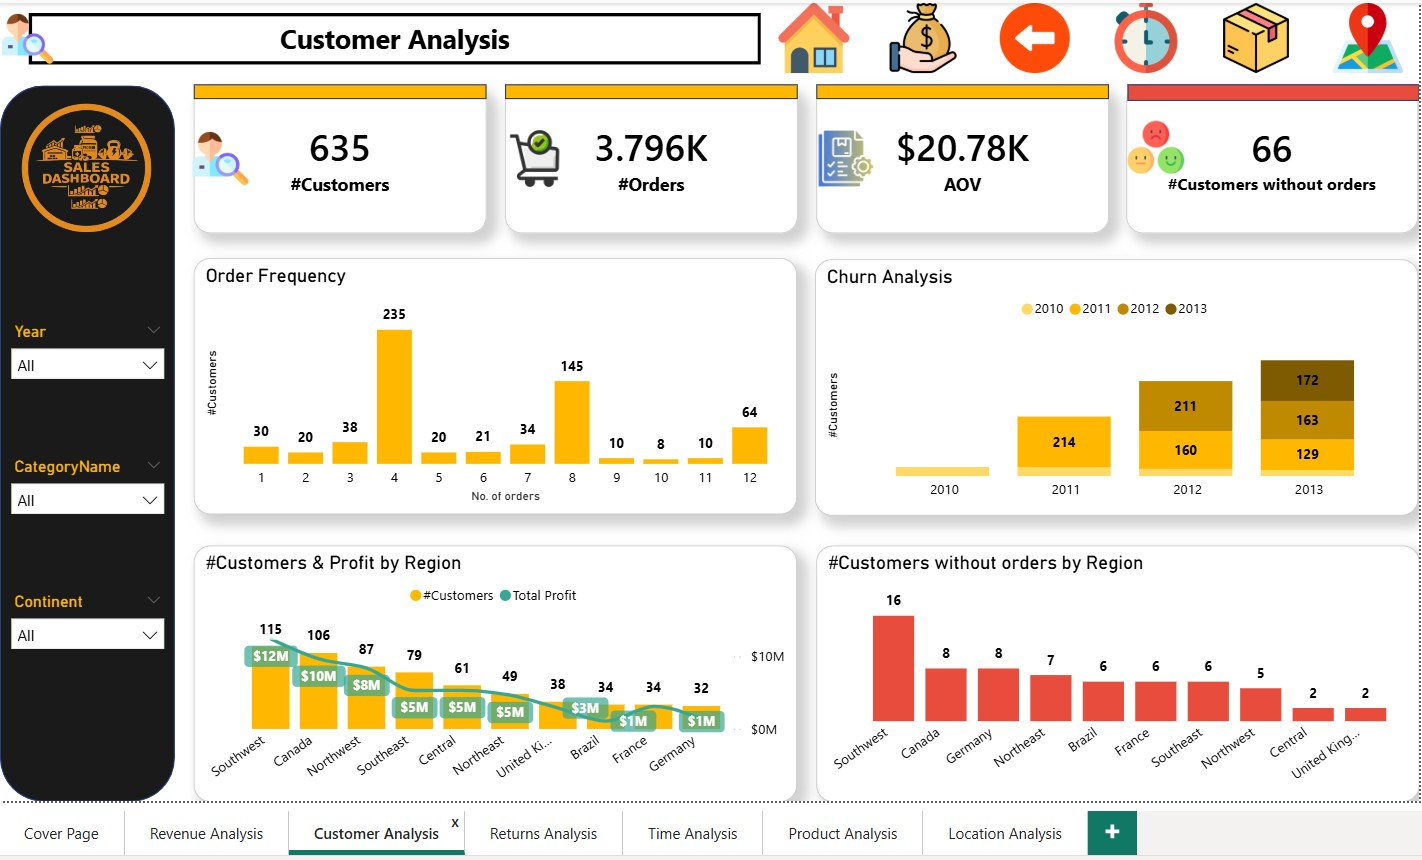

The page's visual inventory and layout, read from the dashboard file:
{"tool":"powerbi","page":{"name":"Customer Analysis","canvas":[1280,720],"ordinal":2},"visuals":[{"type":"group","id":"g1","title":"Group 1","box":[174.1,73,264,134],"z":0},{"type":"group","id":"g2","title":"Group 2","box":[736.4,73,264.5,134],"z":1000},{"type":"group","id":"g3","title":"Group 3","box":[455.3,73,264.5,134],"z":2000},{"type":"cardVisual","fields":{"Data":["Calculations.#Customers"]},"box":[174.1,73,264,134],"z":3000,"group":"g1"},{"type":"cardVisual","fields":{"Data":["Calculations.AOV"]},"box":[736.4,73,264,134],"z":3000,"group":"g2"},{"type":"group","id":"g4","title":"Group 2","box":[1015.9,73,264.1,134],"z":3000},{"type":"cardVisual","fields":{"Data":["Calculations.#Customers without orders"]},"box":[1015.9,73,263.4,134],"z":3000,"group":"g4"},{"type":"clusteredColumnChart","title":"Order Frequency","fields":{"Y":["Calculations.#Customers"],"Category":["Customers.No. of orders"]},"box":[174.1,230.5,544.4,231.2],"z":4000},{"type":"columnChart","title":"Churn Analysis","fields":{"Category":["Calendar Table.Year"],"Y":["Calculations.#Customers"],"Series":["Customers.First order"]},"box":[734.6,231.2,544.4,231.2],"z":5000},{"type":"clusteredColumnChart","title":"#Customers without orders by Region","fields":{"Category":["Customers.Region"],"Y":["Calculations.#Customers without orders"]},"box":[736.1,488.8,544.4,231.2],"z":6000},{"type":"lineClusteredColumnComboChart","title":"#Customers & Profit by Region","fields":{"Category":["Customers.Region"],"Y":["Calculations.#Customers"],"Y2":["Calculations.Total Profit"]},"box":[174.1,488.8,544.4,231.2],"z":7000},{"type":"shape","box":[0,74.6,157.7,645.7],"z":8000},{"type":"slicer","fields":{"Values":["Product.CategoryName"]},"box":[0,404.1,157.7,64.8],"z":9000},{"type":"slicer","fields":{"Values":["Customers.Continent"]},"box":[0,525.8,157.7,63.6],"z":10000},{"type":"slicer","fields":{"Values":["Calendar Table.Year"]},"box":[0,282.5,157.7,64.8],"z":11000},{"type":"cardVisual","fields":{"Data":["Calculations.#Orders"]},"box":[455.8,73,264,134],"z":11001,"group":"g3"},{"type":"shape","box":[174.1,73,264,13.4],"z":11002,"group":"g1"},{"type":"shape","box":[736.9,73,264,13.4],"z":11005,"group":"g2"},{"type":"shape","box":[1016.6,73,263.4,15.1],"z":11005,"group":"g4"},{"type":"shape","box":[455.3,73,264,13.4],"z":11008,"group":"g3"},{"type":"image","box":[0,74.6,158,149.3],"z":12000},{"type":"image","box":[687,0,92.9,63.6],"z":13000},{"type":"image","box":[887,0,92,63],"z":14000},{"type":"image","box":[987,0,92,63],"z":15000},{"type":"image","box":[1087,0,92,63.6],"z":16000},{"type":"image","box":[1187.1,0,92.9,63.6],"z":17000},{"type":"image","box":[787,0,91,63],"z":18000},{"type":"actionButton","box":[25.7,8.6,660.3,46.5],"z":19000},{"type":"image","box":[173.6,113.7,50.1,52.6],"z":20000},{"type":"image","box":[456.1,113.7,51.4,52.6],"z":21000},{"type":"image","box":[737.4,113.7,51.4,52.6],"z":22000},{"type":"image","box":[1016.2,103.9,51.4,52.6],"z":23000},{"type":"cardVisual","fields":{"Data":["Calculations.#Custs arrow"]},"box":[360.7,91.7,94.2,74.6],"z":24000},{"type":"cardVisual","fields":{"Data":["Calculations.#Customers without orders arrow"]},"box":[1186.1,91.7,94.2,74.6],"z":25000},{"type":"cardVisual","fields":{"Data":["Calculations.AOV arrow"]},"box":[922,92.9,94.2,74.6],"z":26000},{"type":"cardVisual","fields":{"Data":["Calculations.#Orders arrow"]},"box":[639.5,91.7,94.2,74.6],"z":27000},{"type":"image","box":[0,8.6,50.1,46.5],"z":28000}]}

Visuals, with their boxes on the page's 1280x720 design canvas (x1, y1, x2, y2). These are canvas units, not pixel positions in the 1422x860 screenshot, which may show the page scaled, cropped or inside an application window:
"Group 1" group: 174:73:438:207
"Group 2" group: 736:73:1001:207
"Group 3" group: 455:73:720:207
cardVisual - Calculations.#Customers: 174:73:438:207
cardVisual - Calculations.AOV: 736:73:1000:207
"Group 2" group: 1016:73:1280:207
cardVisual - Calculations.#Customers without orders: 1016:73:1279:207
"Order Frequency" clusteredColumnChart: 174:230:718:462
"Churn Analysis" columnChart: 735:231:1279:462
"#Customers without orders by Region" clusteredColumnChart: 736:489:1280:720
"#Customers & Profit by Region" lineClusteredColumnComboChart: 174:489:718:720
shape: 0:75:158:720
slicer - Product.CategoryName: 0:404:158:469
slicer - Customers.Continent: 0:526:158:589
slicer - Calendar Table.Year: 0:282:158:347
cardVisual - Calculations.#Orders: 456:73:720:207
shape: 174:73:438:86
shape: 737:73:1001:86
shape: 1017:73:1280:88
shape: 455:73:719:86
image: 0:75:158:224
image: 687:0:780:64
image: 887:0:979:63
image: 987:0:1079:63
image: 1087:0:1179:64
image: 1187:0:1280:64
image: 787:0:878:63
actionButton: 26:9:686:55
image: 174:114:224:166
image: 456:114:508:166
image: 737:114:789:166
image: 1016:104:1068:156
cardVisual - Calculations.#Custs arrow: 361:92:455:166
cardVisual - Calculations.#Customers without orders arrow: 1186:92:1280:166
cardVisual - Calculations.AOV arrow: 922:93:1016:168
cardVisual - Calculations.#Orders arrow: 640:92:734:166
image: 0:9:50:55
